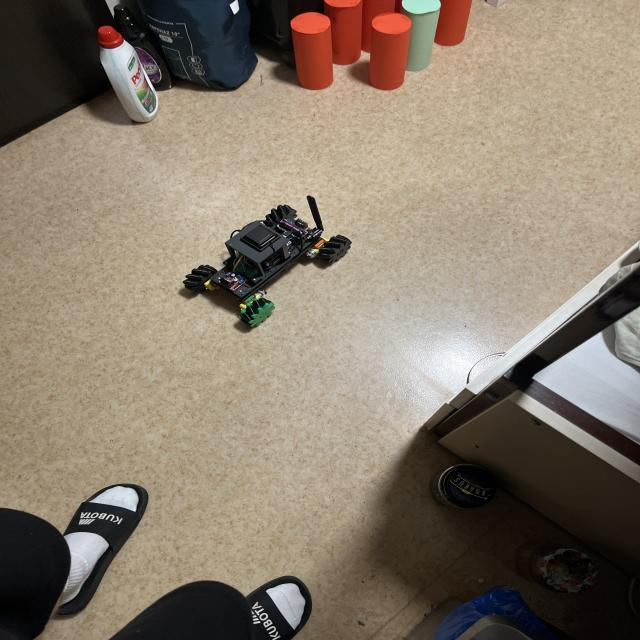robot: (183, 196, 351, 327)
